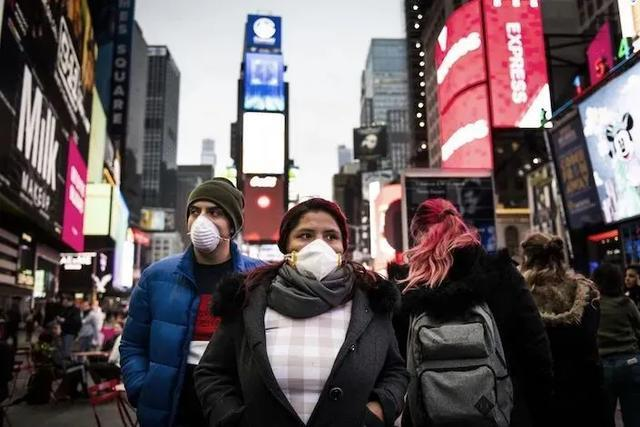mask: (286, 207, 346, 279), (187, 201, 236, 256)
